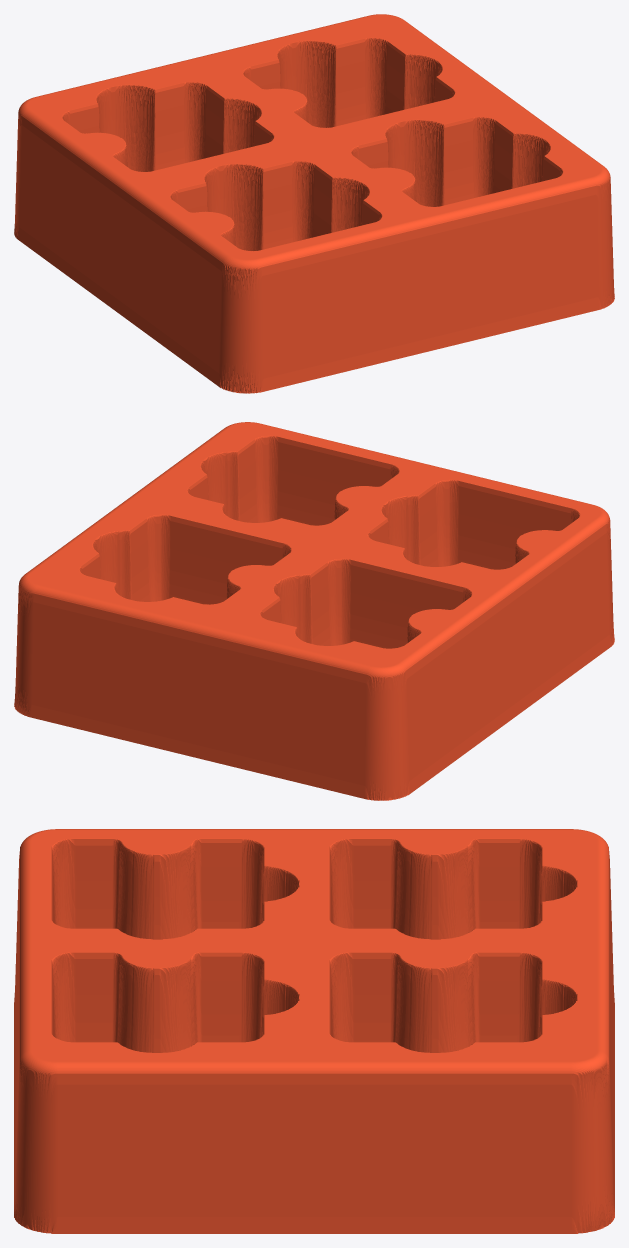
File: mold.glb
3 renders of one model, top to bottom at view 1: azimuth 30°, elevation 25°; view 2: azimuth 150°, elevation 25°; view 3: azimuth 270°, elevation 25°, orthographic. The views are drawn at different scales.
Parts seen in each view (by area): view 1: geometry_0; view 2: geometry_0; view 3: geometry_0.
Part boxes in pixels (bbox=[...]): geometry_0: bbox=[14, 14, 614, 393]; geometry_0: bbox=[14, 422, 614, 800]; geometry_0: bbox=[14, 829, 614, 1233].
Size of the model in its own units: 0.121 by 0.0378 by 0.1248.
